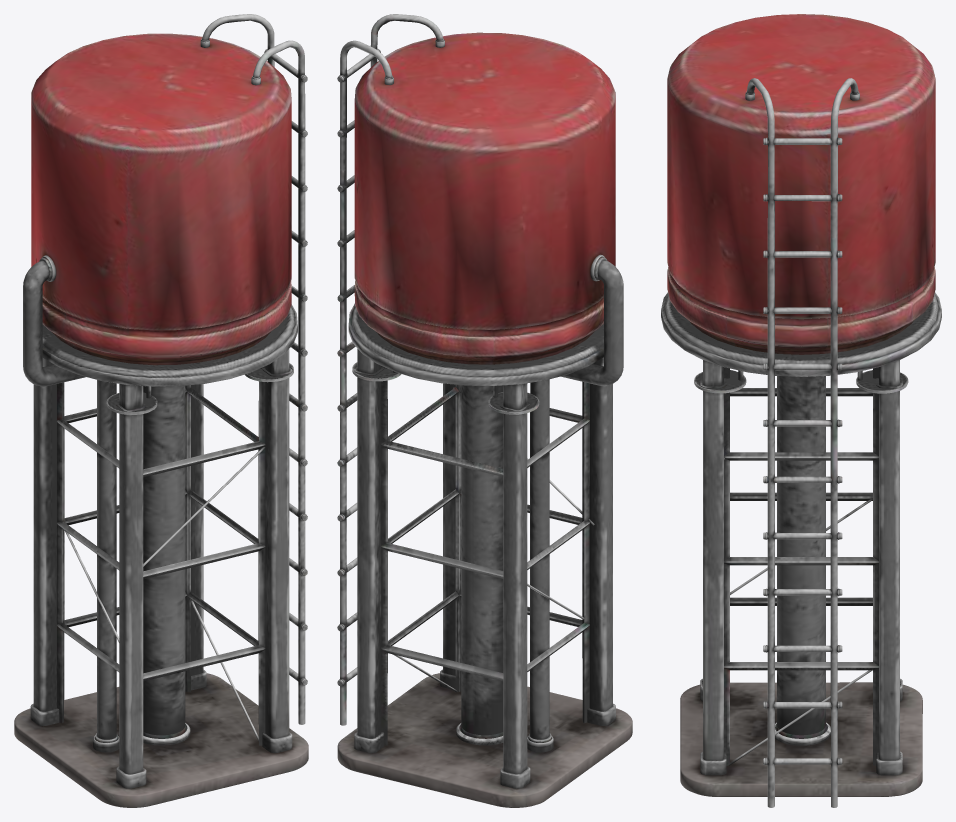
The model's file is water_tank_3.glb.
The picture shows the model from 3 angles, left to right: view 1: azimuth 30°, elevation 25°; view 2: azimuth 150°, elevation 25°; view 3: azimuth 270°, elevation 25°; orthographic projection. The views are drawn at different scales.
Visible parts, largest first — view 1: Object_4; view 2: Object_4; view 3: Object_4.
Part boxes in pixels (x1,y1,x2,y2): Object_4: (14, 14, 308, 807); Object_4: (337, 14, 632, 807); Object_4: (661, 14, 941, 807).
Bounding box in the file's own units: 0.4019 × 1 × 0.3581.
Materials: 1 (1 with a texture image).
